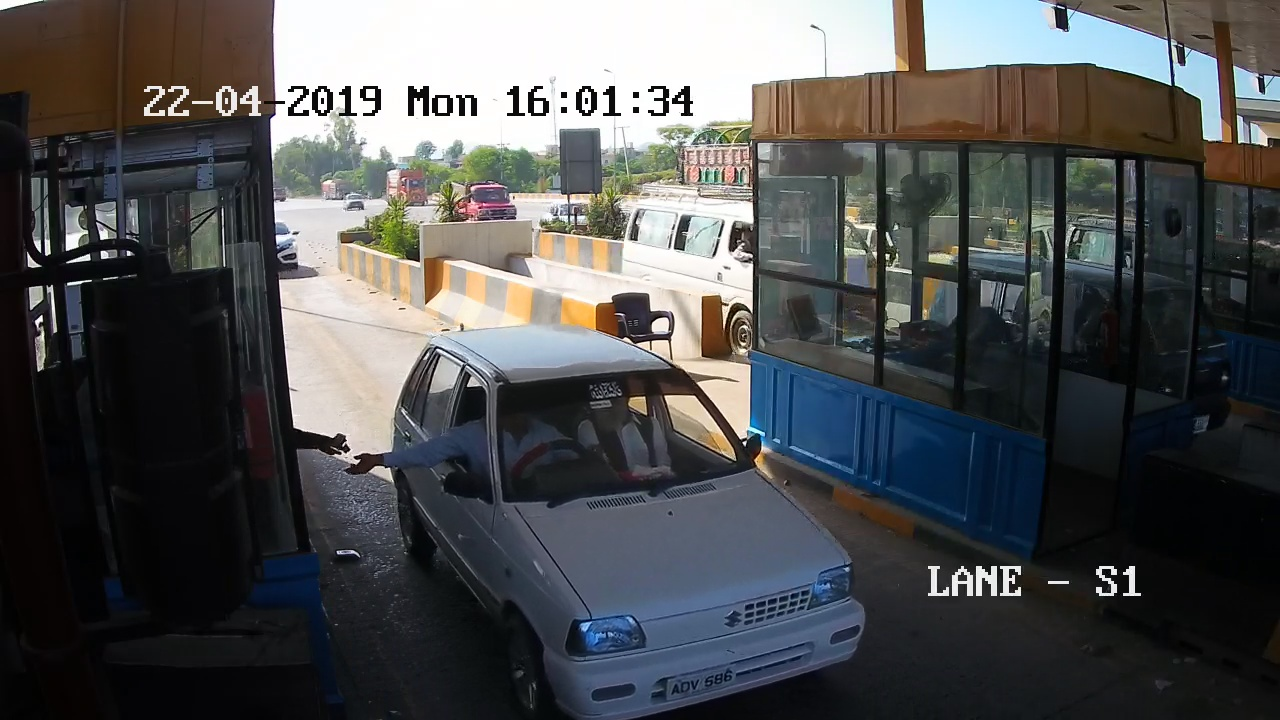car: (384, 331, 890, 711)
